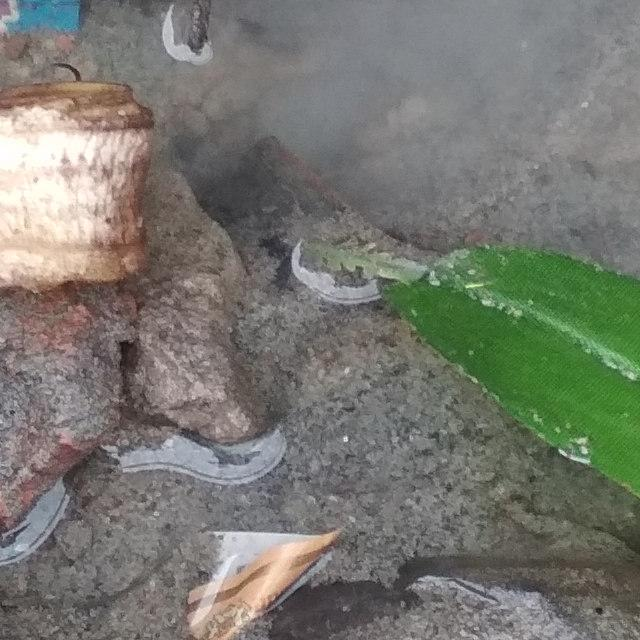food_waste: (262, 0, 640, 640), (0, 0, 197, 640)
